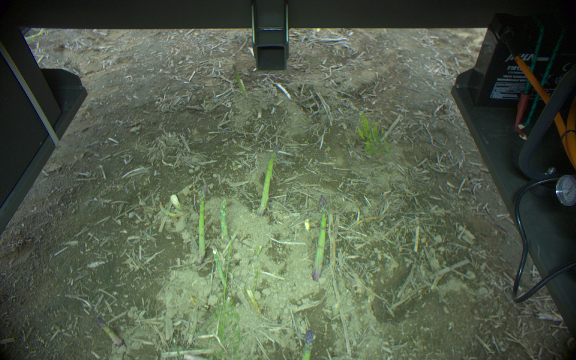aspa: (257, 144, 287, 217), (312, 194, 328, 281), (91, 316, 125, 348), (196, 184, 207, 263), (297, 330, 318, 360), (212, 249, 228, 288), (217, 197, 230, 240), (231, 66, 247, 95)
